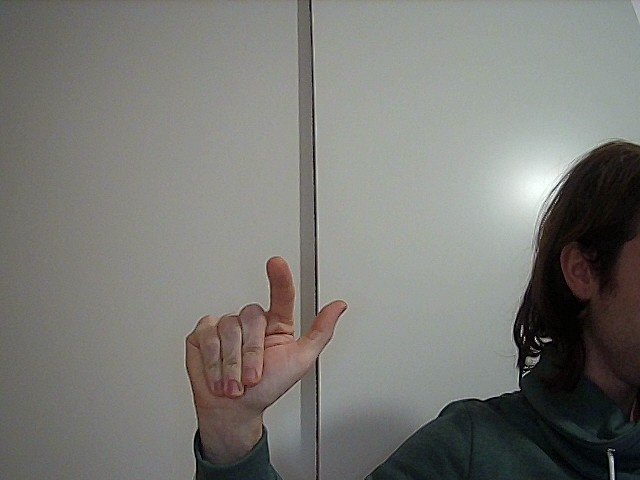t: (150, 252, 369, 417)
